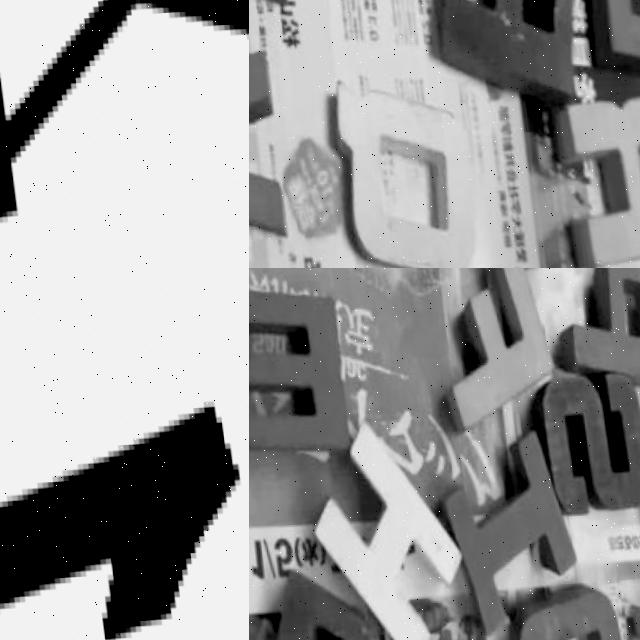1: (0, 401, 249, 640)
B: (421, 0, 578, 106)
D: (573, 0, 640, 93), (504, 592, 632, 640)
F: (418, 268, 551, 425)
H: (297, 414, 462, 640)
I: (432, 433, 569, 611)
M: (249, 271, 345, 449)
P: (551, 268, 640, 392)
Q: (320, 65, 477, 268)
R: (549, 97, 640, 268)
S: (527, 370, 640, 520)
X: (0, 0, 249, 230)
